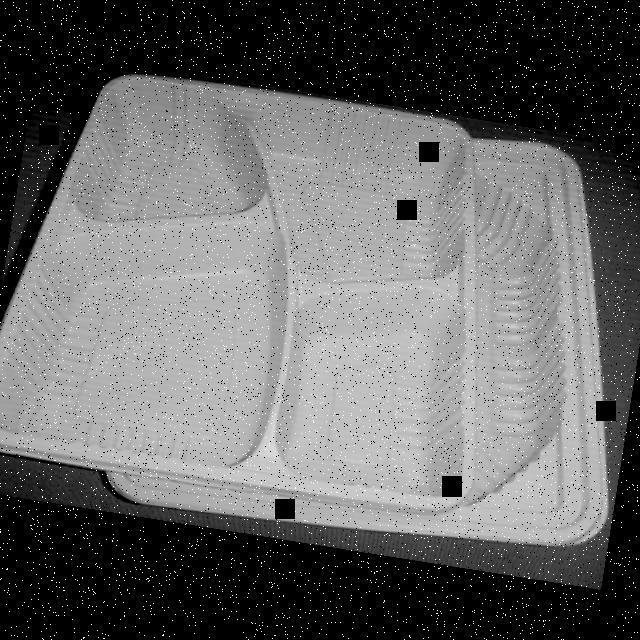plastic_box: (103, 84, 640, 576), (0, 53, 527, 526)
